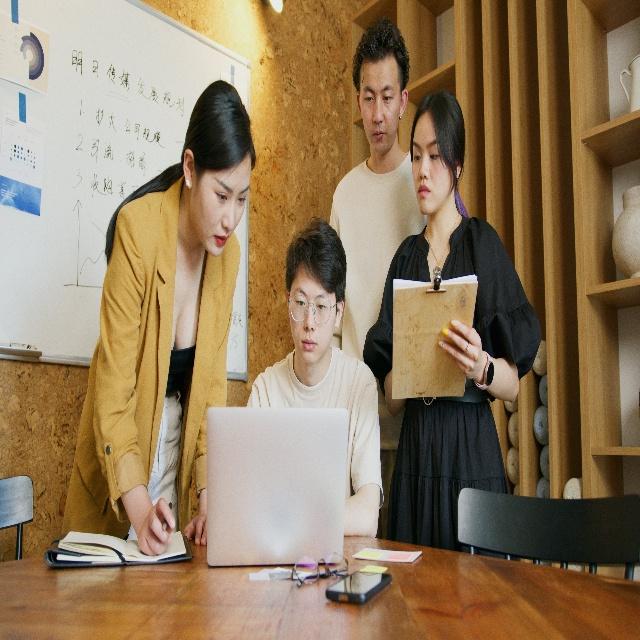Gafas: (292, 550, 349, 587), (287, 290, 339, 324)
Sin_guantes: (438, 320, 484, 382), (137, 497, 176, 556), (183, 511, 207, 545)
